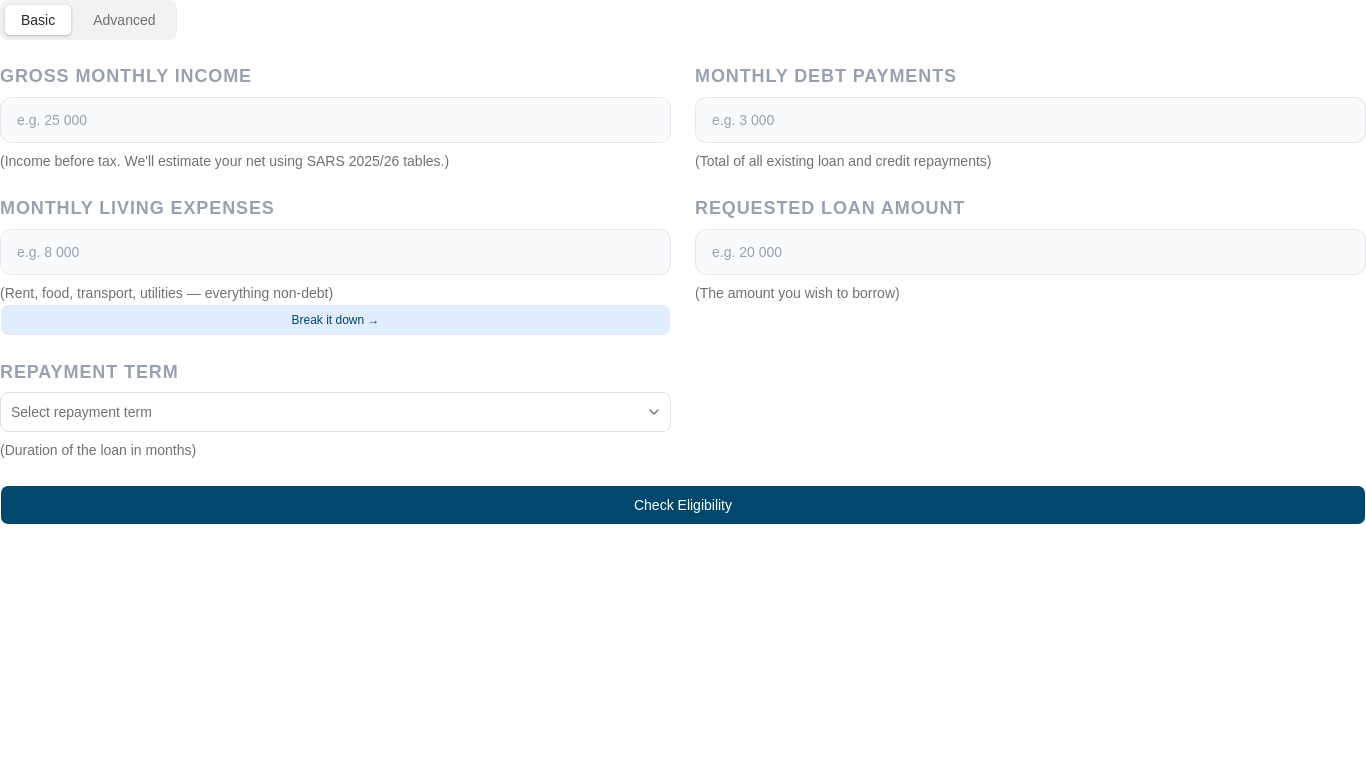
Test: LoanSimulatorForm › switches to advanced and reveals extra sections
Click the button "advanced".
click(124, 20)  # box [76,4,172,36]
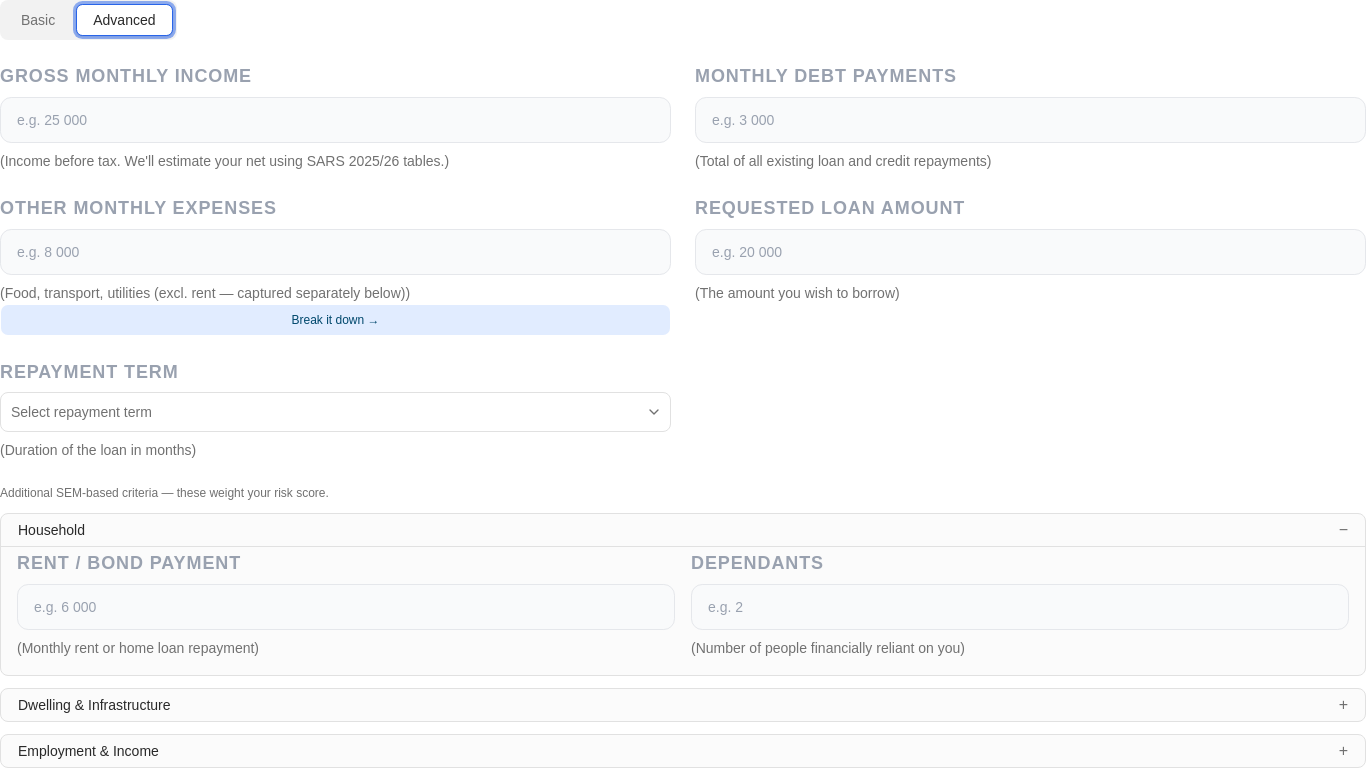
Now the button "Household −" is shown, box [1,514,1365,546]
Now the button "Dwelling & Infrastructure +" is shown, box [1,689,1365,721]
Now the button "Employment & Income +" is shown, box [1,735,1365,767]
